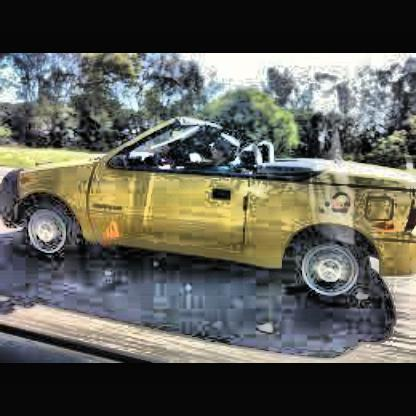Geo Metro Convertible 1993: (2, 112, 416, 310)
